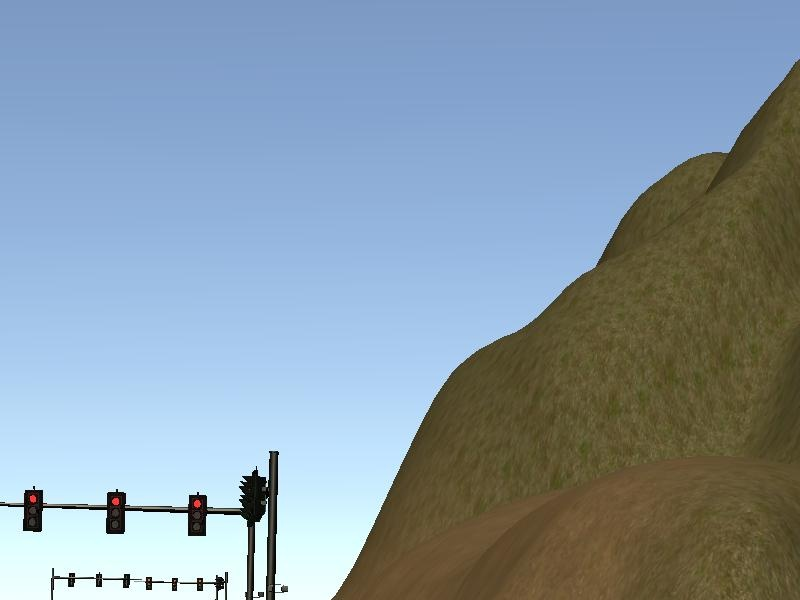red: (21, 487, 46, 535), (103, 487, 127, 537), (186, 490, 209, 541)
